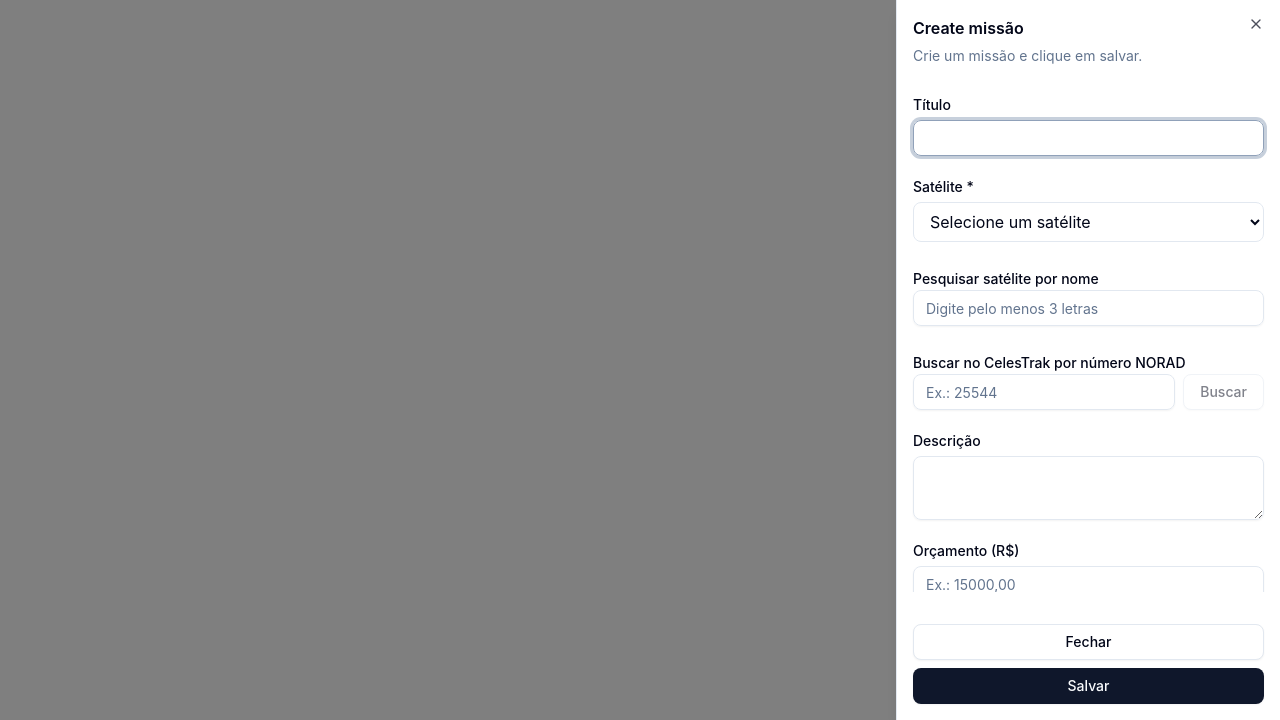
it: CT-030: formulário de missão › rejeita os campos obrigatórios vazios sem salvar
The width and height of the screenshot is (1280, 720).
Click the button "Salvar": (1088, 686) x1=913 y1=668 x2=1264 y2=704
(page scrolled)
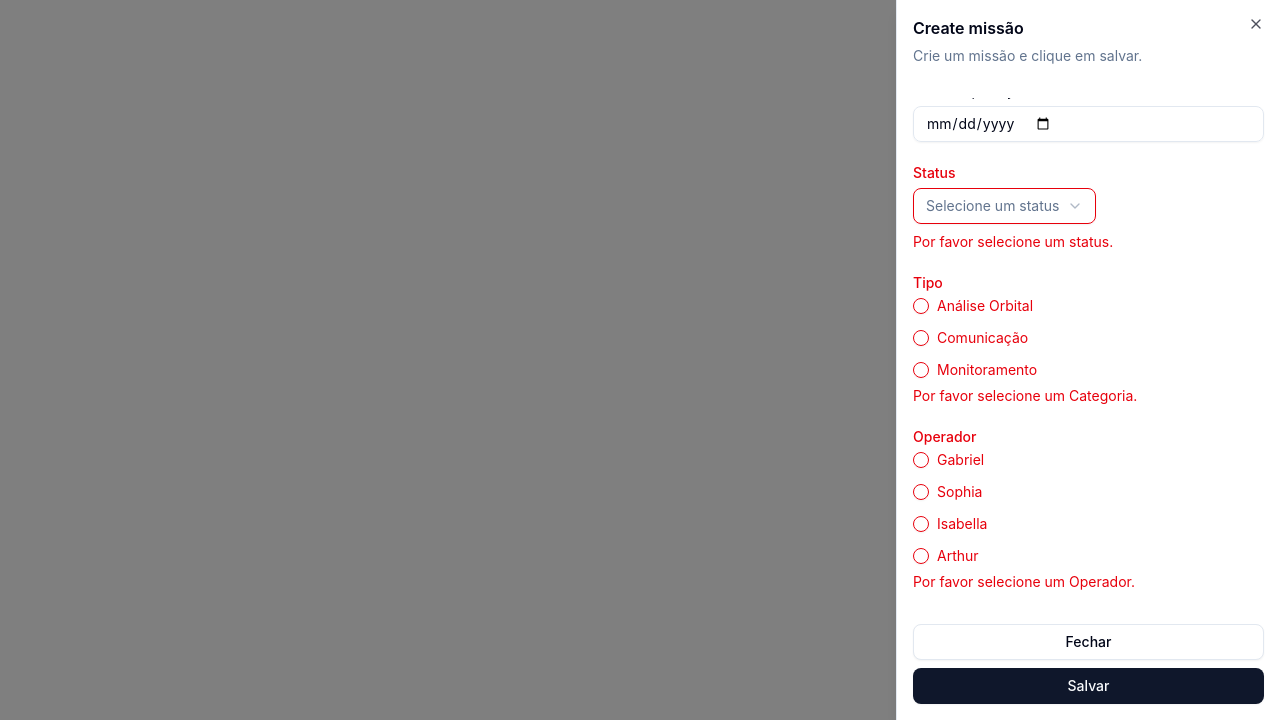
Expected: the text "Por favor selecione um status." is shown, x1=913 y1=233 x2=1113 y2=250
Expected: the text "Por favor selecione um Categoria." is shown, x1=913 y1=387 x2=1137 y2=404
Expected: the text "Por favor selecione um Operador." is shown, x1=913 y1=573 x2=1135 y2=590
